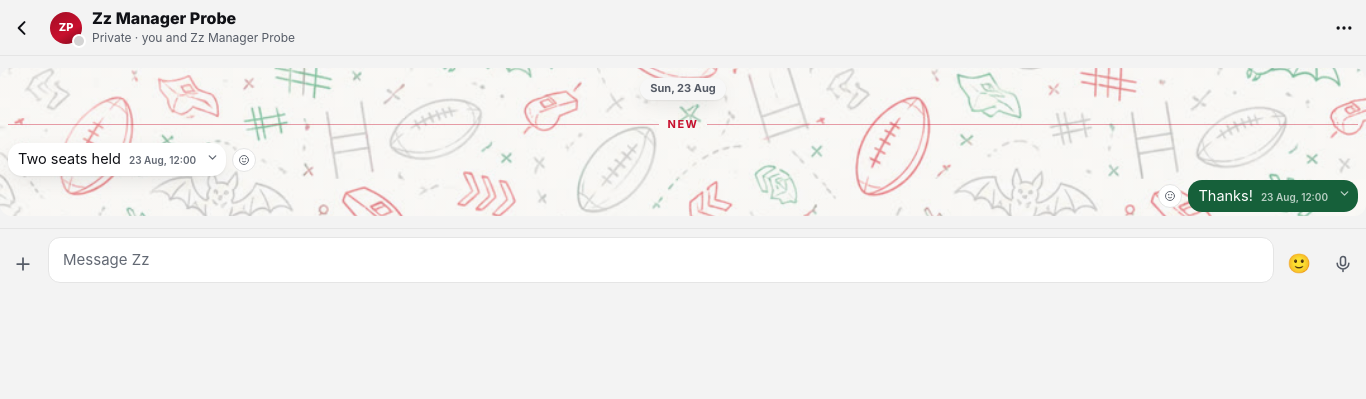
Scenario: reply-with-quote › Reply arms the preview; send carries quotedId; ✕ disarms it
Round 4: actions live in the bubble's chevron menu.
Step 1. Click the button named "Message options" in the row of "Two seats held" → (212, 157), box left=202, top=147, right=222, bottom=167
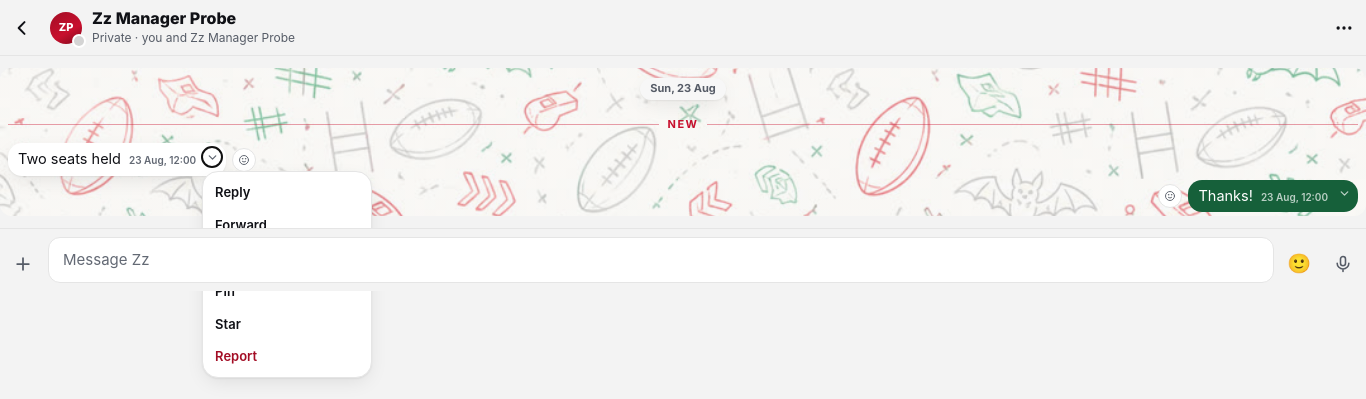
Step 2. Click the menu item "Reply" → (287, 193), box left=203, top=176, right=371, bottom=209
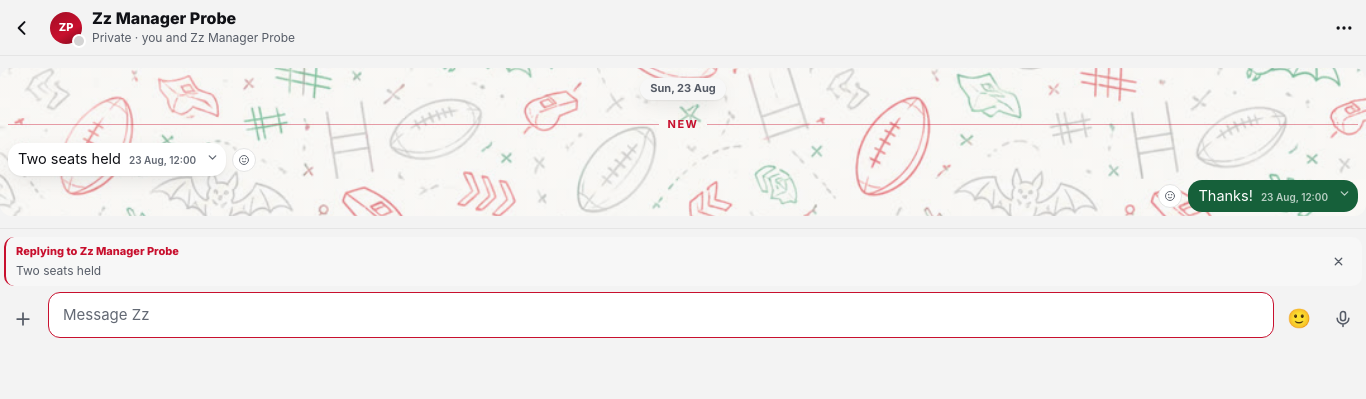
Expected: the element with test id "quote-preview" shows "Replying to Zz Manager Probe", left=4, top=237, right=1362, bottom=286
Expected: the element with test id "quote-preview" shows "Two seats held", left=16, top=263, right=101, bottom=278
Step 3. Type "On it" into the text box labelled "Message" → (661, 315), box left=48, top=292, right=1274, bottom=338
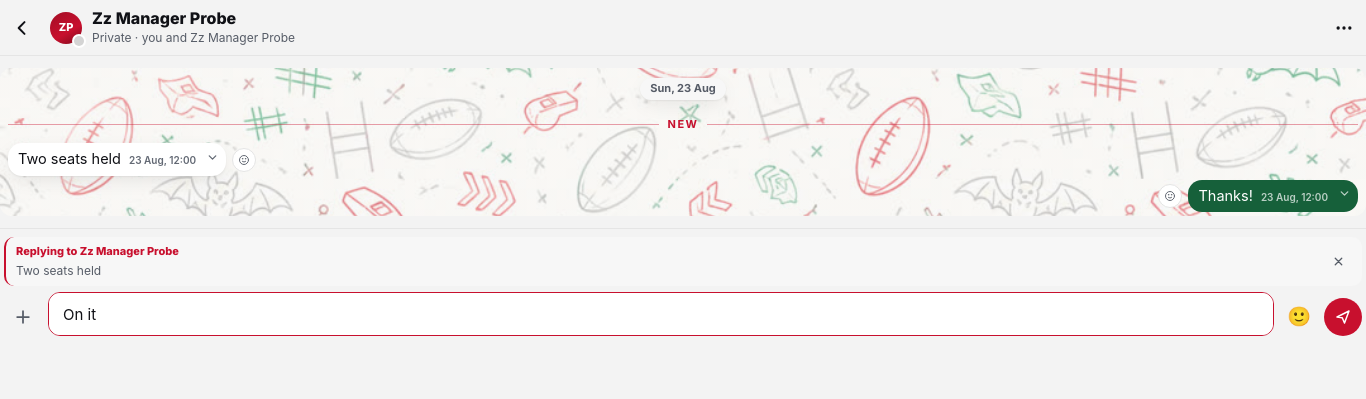
Step 4. Click the button named "Send" → (1343, 317), box left=1324, top=298, right=1362, bottom=336
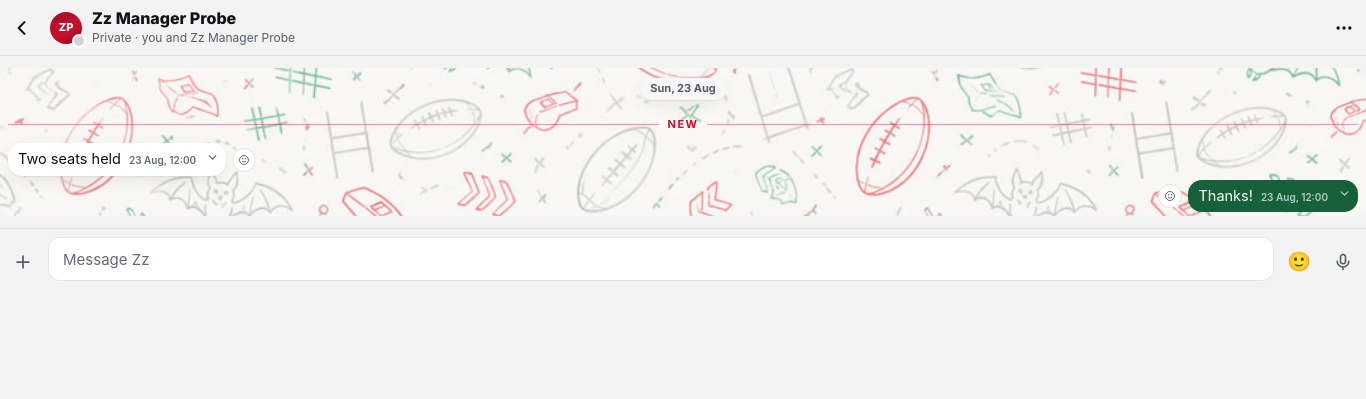
Expected: the element with test id "quote-preview" is gone
